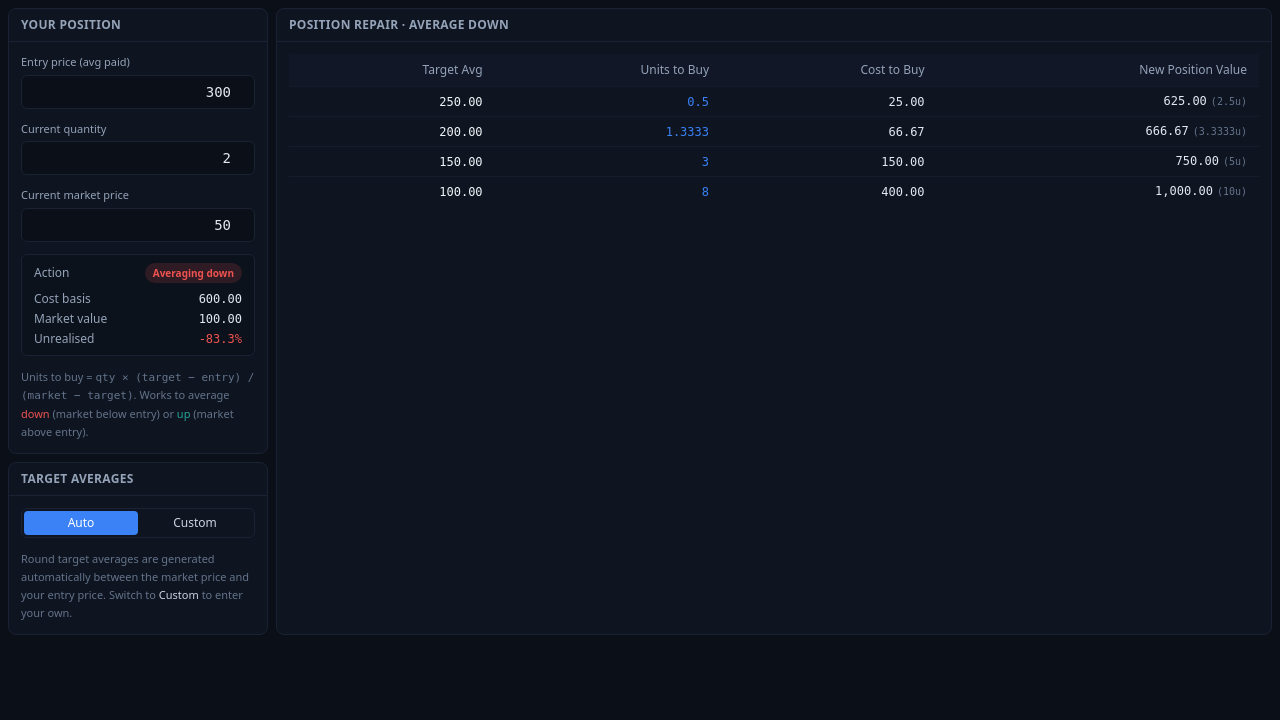
it: PositionRepairPanel › averages up when the market price is above entry
// entry 300, qty 2, market 600 → ascending targets strictly in (300, 600).
Replace the text in the number field labelled "Current market price" with "600" at (138, 224), box [21,208,255,242]
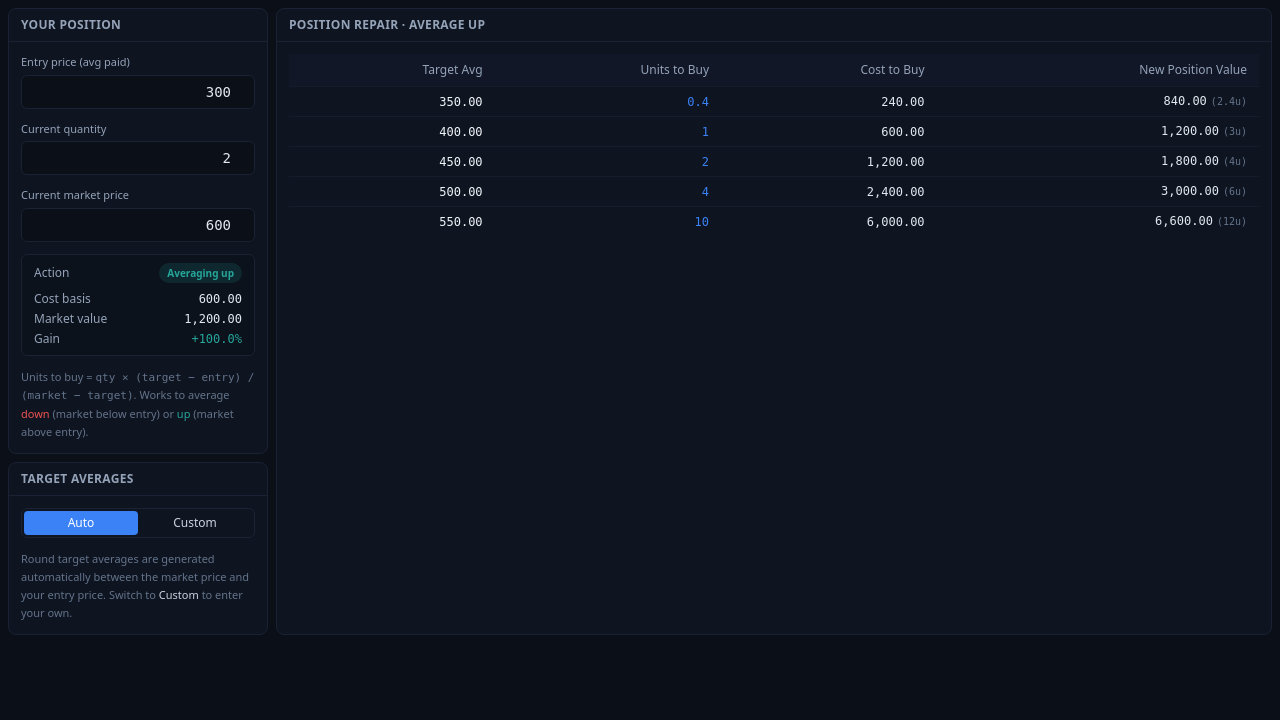
Result: the text "Averaging up" is shown at [159,262,242,282]
Result: the heading "Position Repair · Average Up" is shown at [289,17,485,33]
